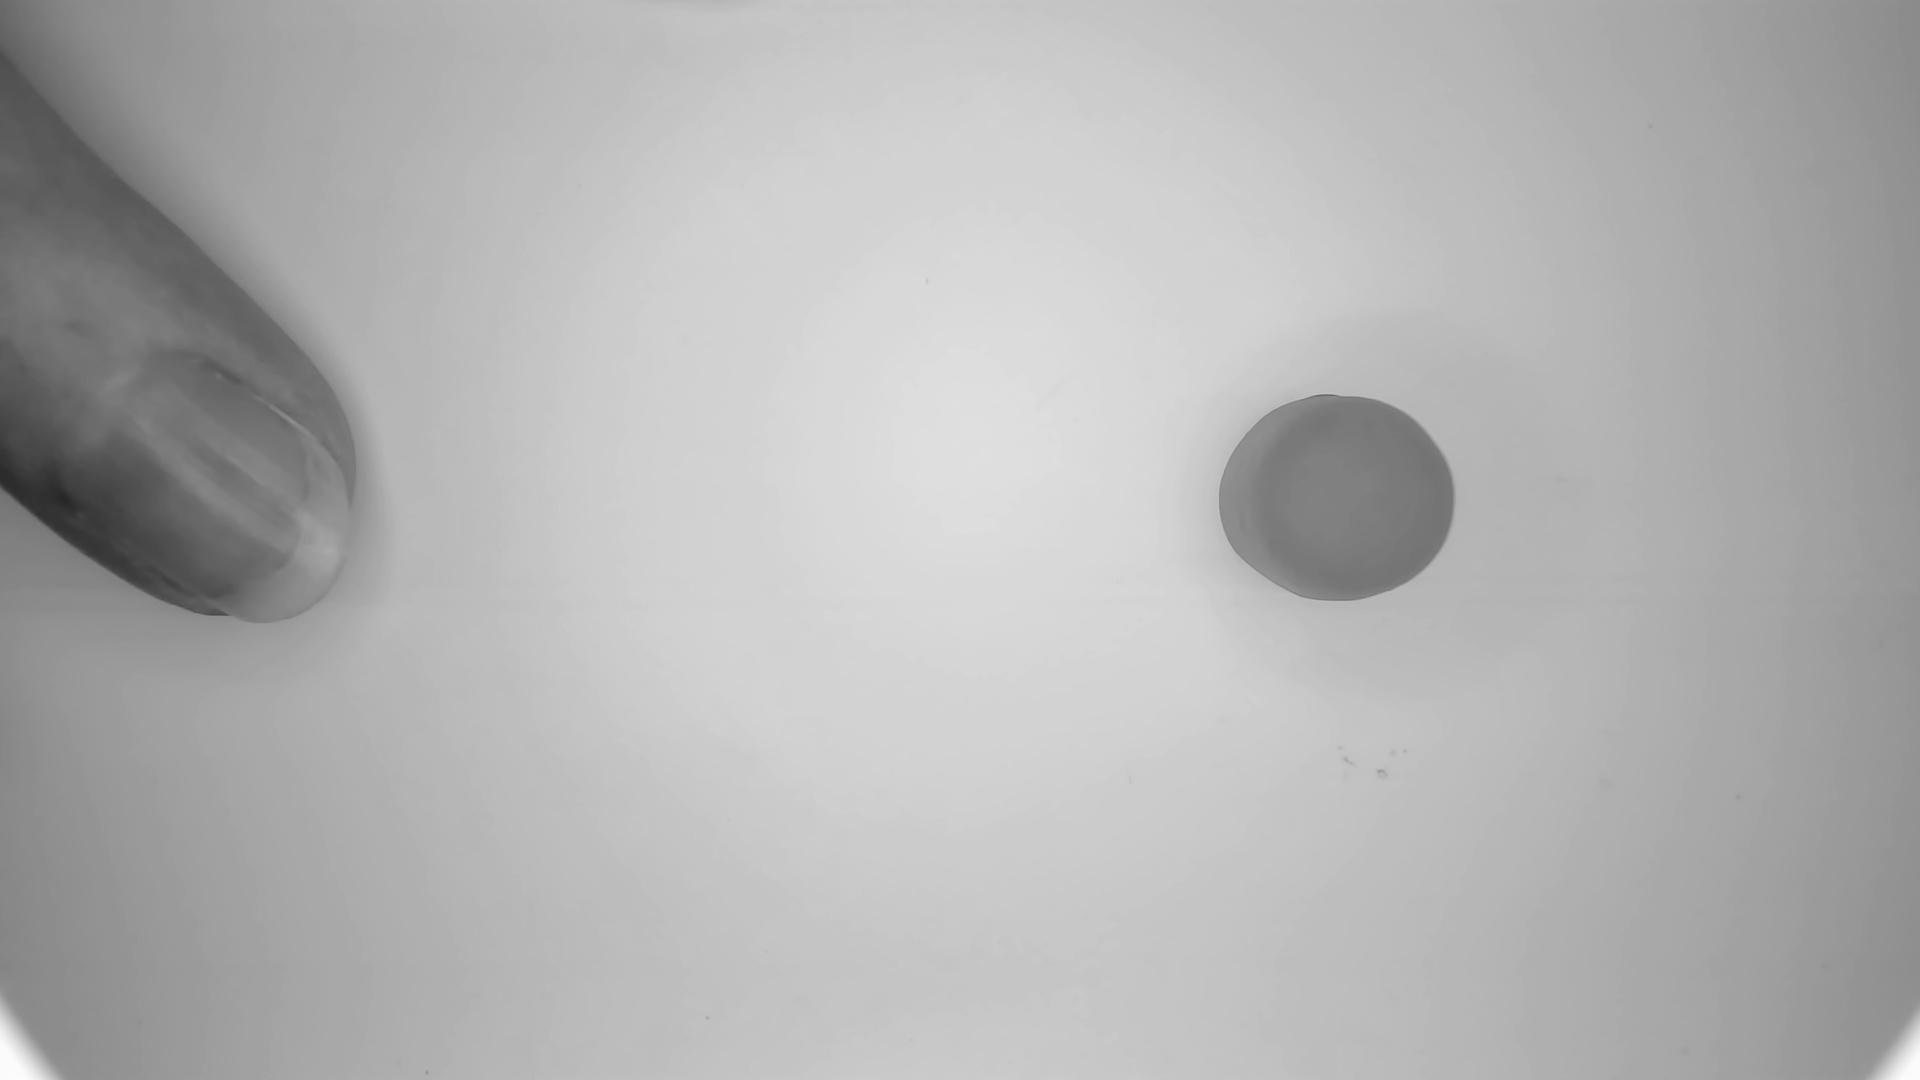normal: (1218, 394, 1458, 604)
